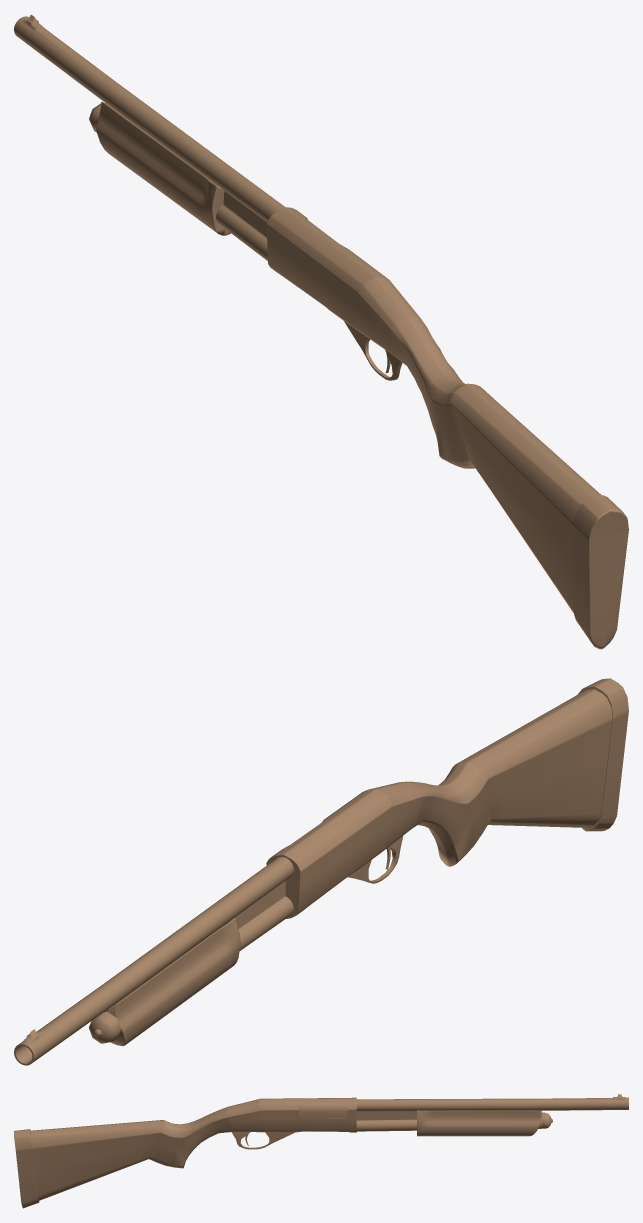
3 views of the same model, one above another, from view 1: azimuth 30°, elevation 25°; view 2: azimuth 150°, elevation 25°; view 3: azimuth 270°, elevation 25° (orthographic). The views are drawn at different scales.
Parts seen in each view (by area): view 1: barrel, pomp; view 2: barrel, pomp; view 3: barrel, pomp.
Boxes of the visible parts, x1,y1,x2,y2 form: barrel: [14, 14, 628, 649]; pomp: [96, 101, 230, 235]; barrel: [14, 678, 628, 1065]; pomp: [104, 918, 240, 1046]; barrel: [14, 1094, 628, 1208]; pomp: [299, 1101, 541, 1136].
Bounding box in the file's own units: 288 × 1482 × 7253.
